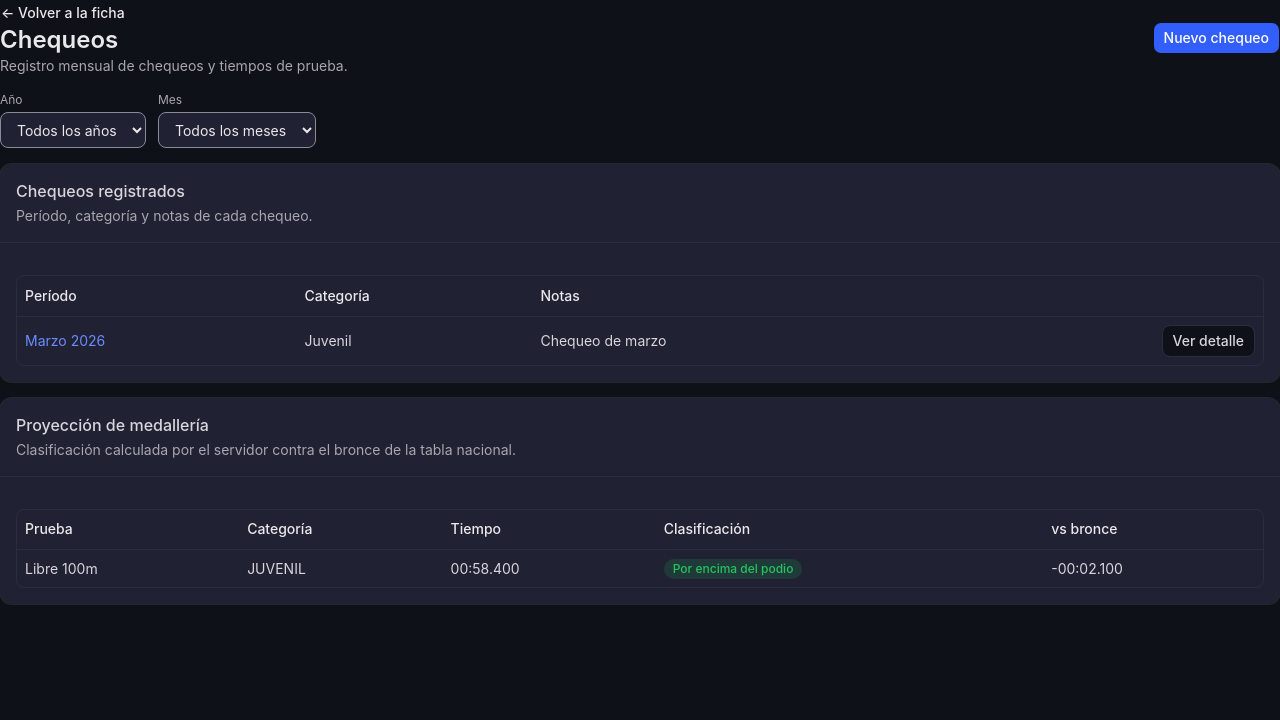
Test: CheckupFormDialog — validación local y alta (C5) › sin categoría seleccionada el envío se bloquea
Click the button with test id "checkup-new-button": click(1216, 38) [1153,22,1279,54]
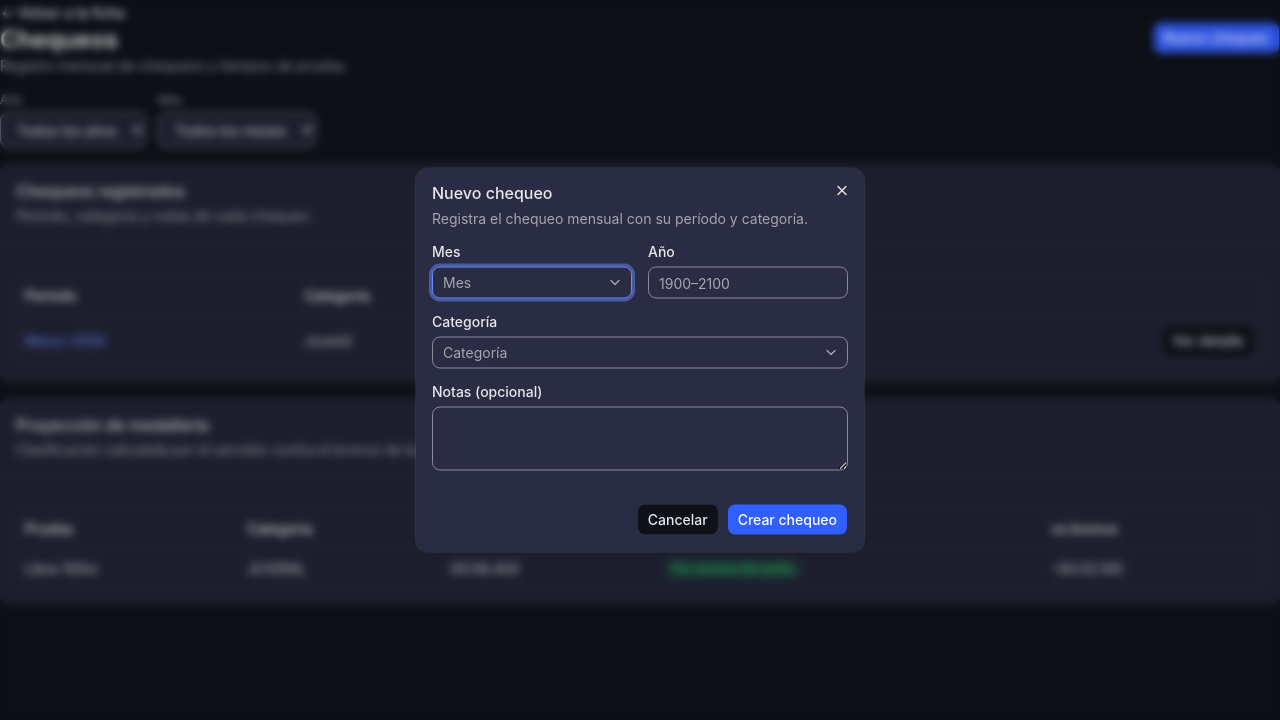
Now the dialog with test id "checkup-form-dialog" is shown, box [416,168,864,552]
In the number field with test id "checkup-form-year": (748, 282) [648,266,848,298], type "2026"
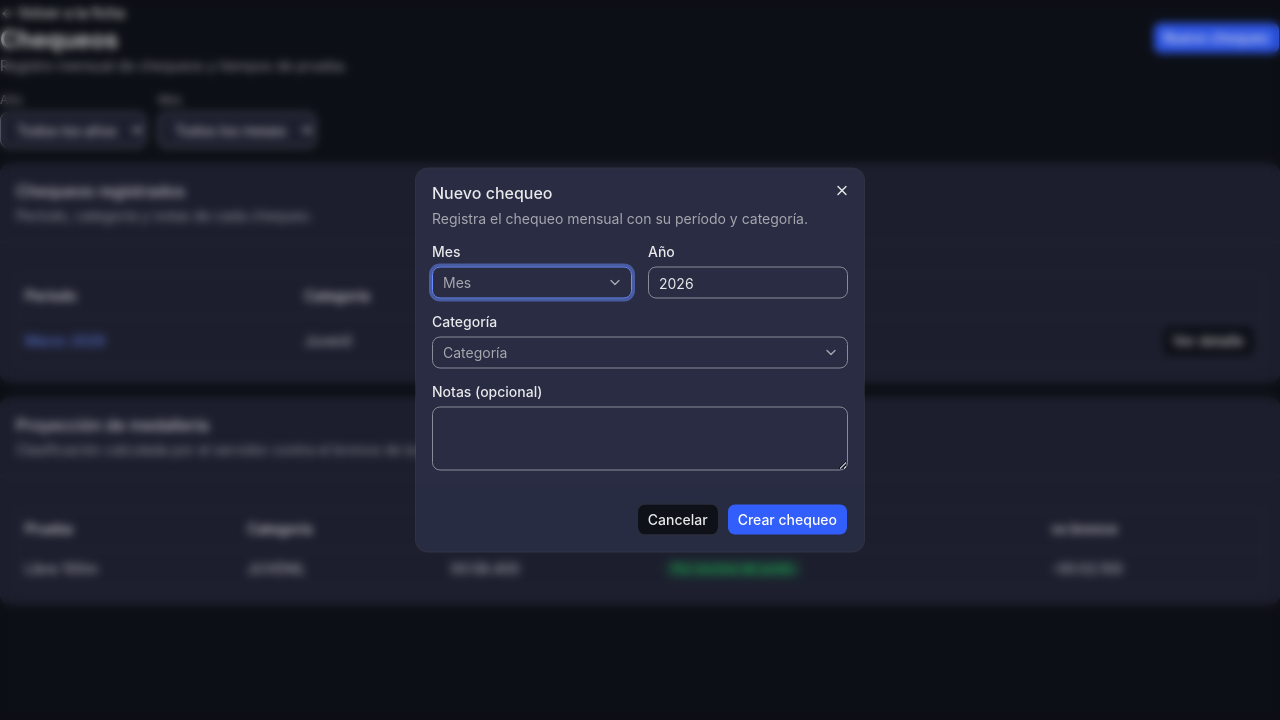
Click the button with test id "checkup-form-submit": click(787, 520) [727,504,848,536]
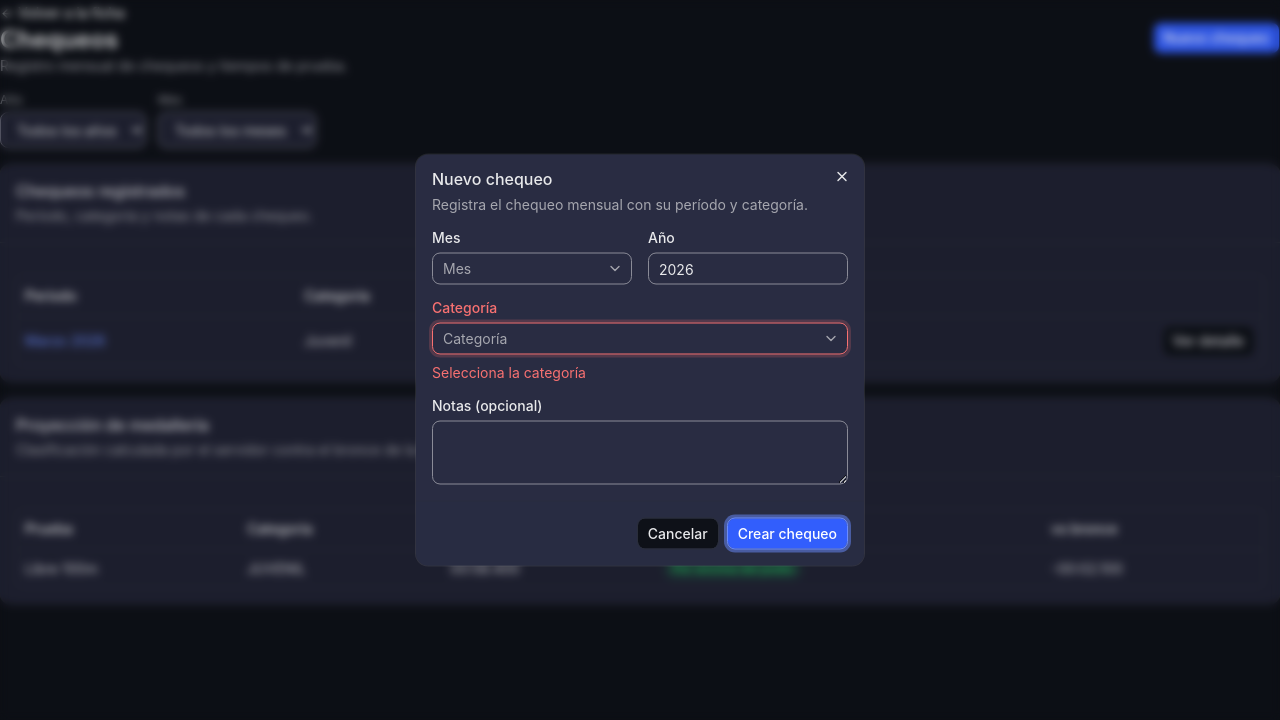
Now the text "Selecciona la categoría" is shown, box [432,364,586,380]
